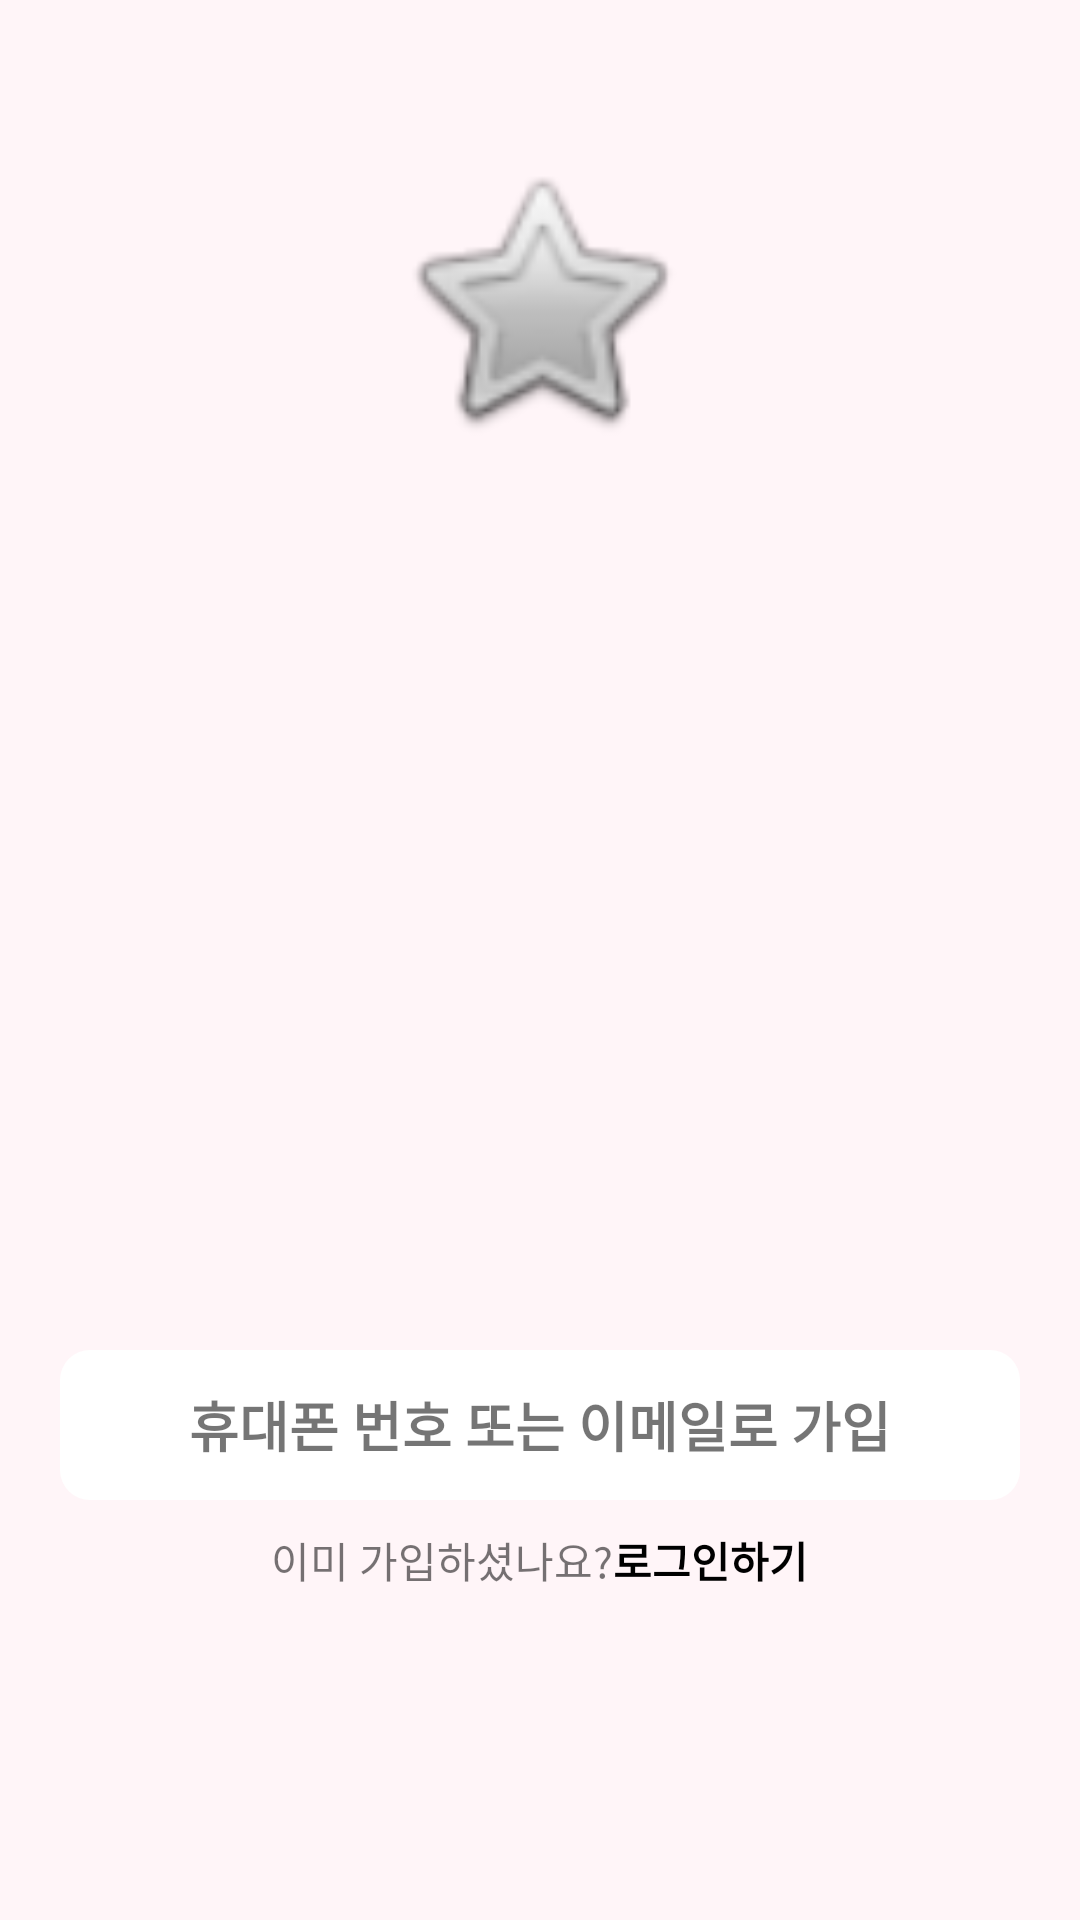

Icons on this 1080x1920 Android screen, each with its box as bbox=(x1, y1, x2, y2):
star: bbox=(417, 180, 668, 425)
